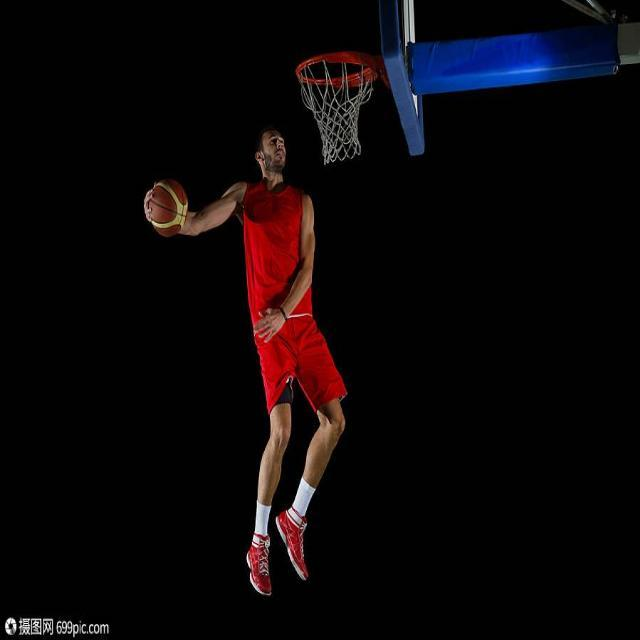rim: (146, 186, 188, 237)
